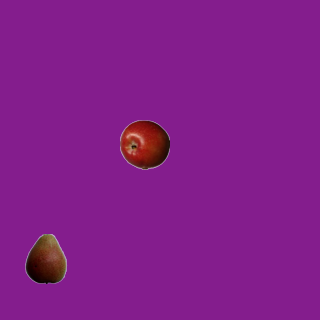Apple Braeburn: (119, 119, 169, 169)
Pear Forelle: (20, 233, 70, 283)
